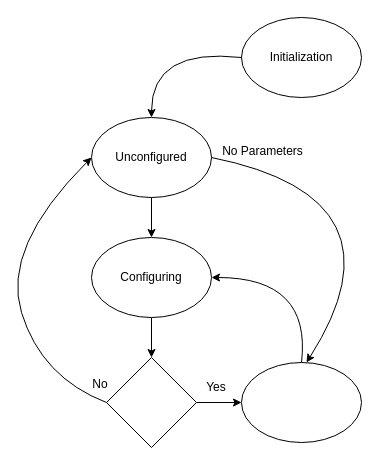
Some shapes in this 379 by 465 pixel diagram are drawn without their labels. Here are the shapes that lost their labels. From the top down, the box of each, then its label:
(106, 356, 196, 448): Parameters configured?
(240, 362, 362, 442): Configured
